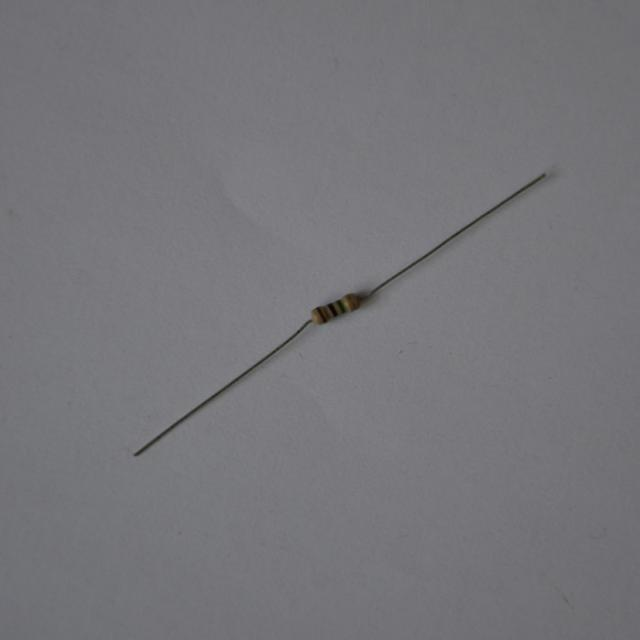black: (327, 304, 337, 316)
brown: (316, 306, 327, 322)
gold: (347, 294, 359, 309)
green: (336, 300, 346, 314)
resistor: (299, 283, 368, 334)
